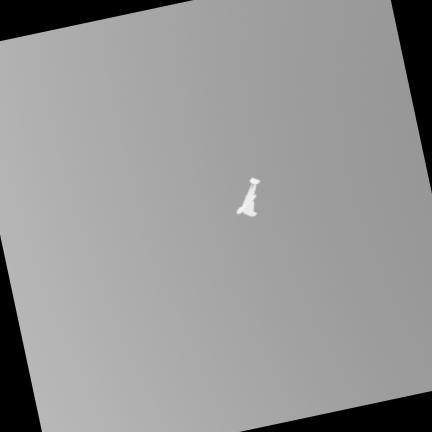Shahed: (237, 179, 260, 216)
